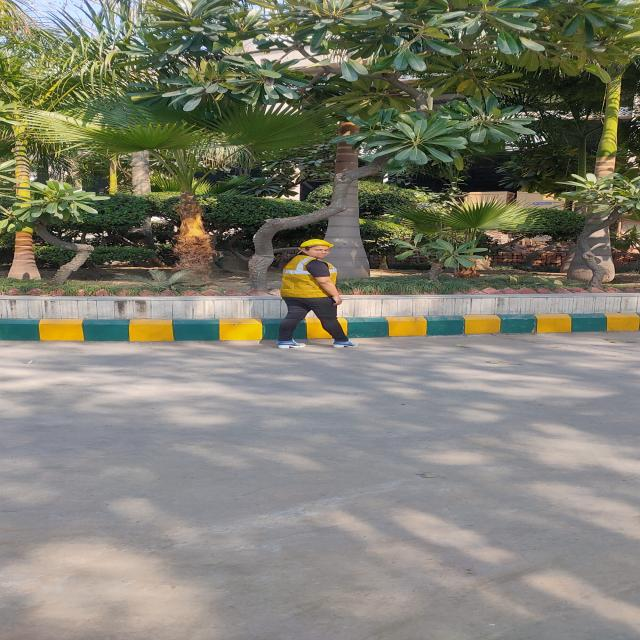safe: (281, 239, 349, 349)
